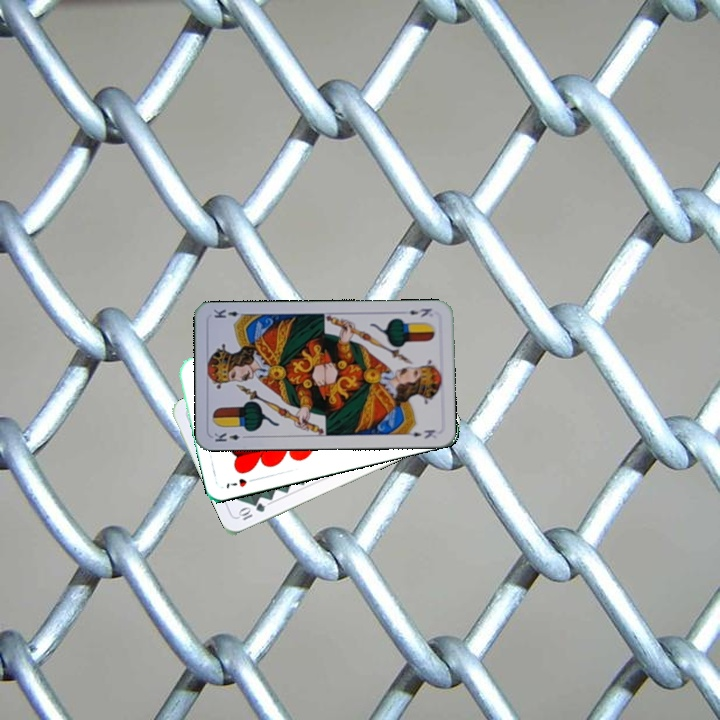EK: (210, 428, 251, 444), (405, 304, 434, 319)
G10: (234, 499, 268, 523)
H7: (222, 474, 260, 491)
